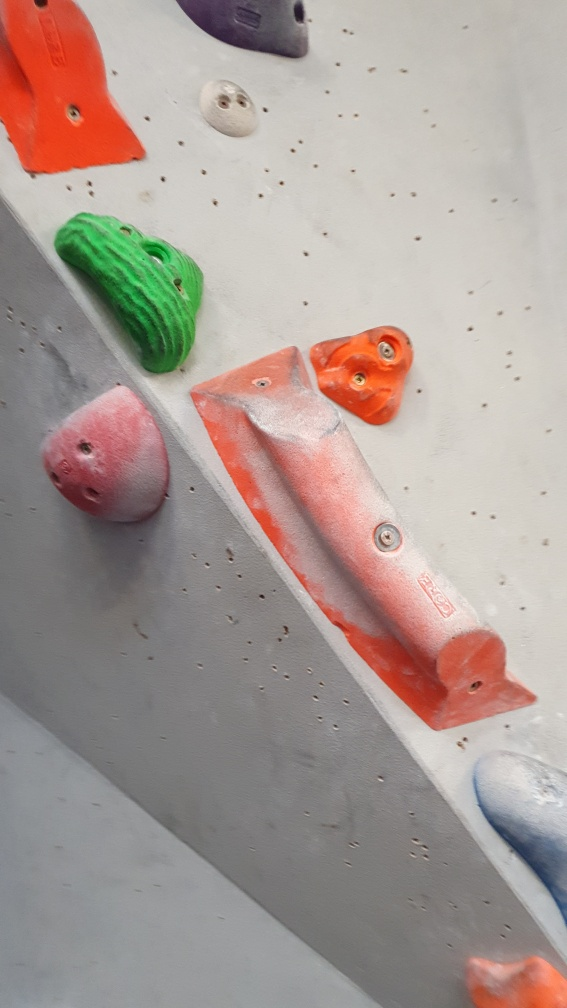Jug: (53, 206, 209, 377)
Pinch: (191, 343, 538, 735), (1, 1, 143, 177)
